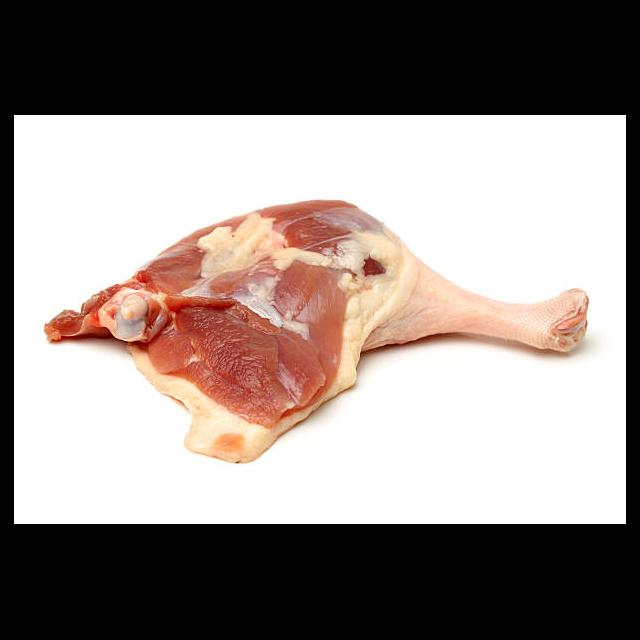chicken: (45, 201, 590, 464)
